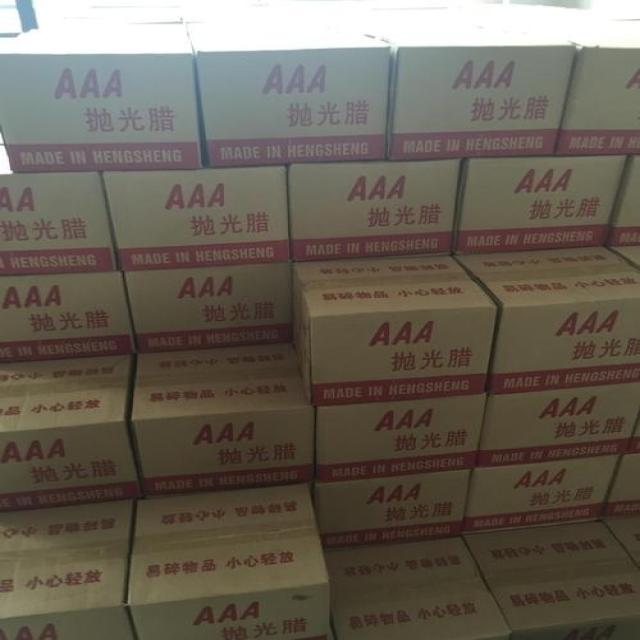box: (343, 11, 580, 158), (127, 480, 335, 639), (290, 250, 503, 405), (0, 19, 206, 174), (188, 16, 392, 169), (129, 342, 318, 494), (459, 243, 639, 392), (5, 353, 143, 510), (493, 8, 639, 155), (466, 517, 639, 639), (1, 496, 141, 639), (102, 166, 289, 271), (326, 534, 513, 639), (286, 157, 463, 260), (456, 154, 634, 250), (121, 259, 295, 353), (317, 392, 490, 482), (475, 381, 639, 468), (314, 467, 474, 549), (467, 453, 626, 533), (2, 271, 135, 362), (0, 173, 116, 277), (611, 152, 639, 245), (602, 451, 639, 517), (605, 511, 639, 573), (610, 244, 639, 269), (626, 414, 639, 452)
